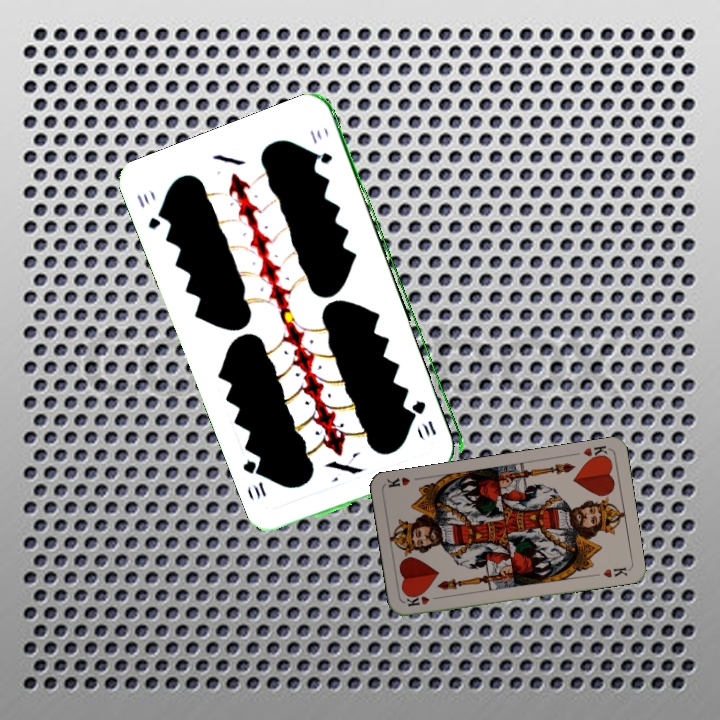G10: (132, 191, 168, 232), (411, 396, 439, 438)
HK: (579, 441, 611, 463), (403, 592, 443, 609)
